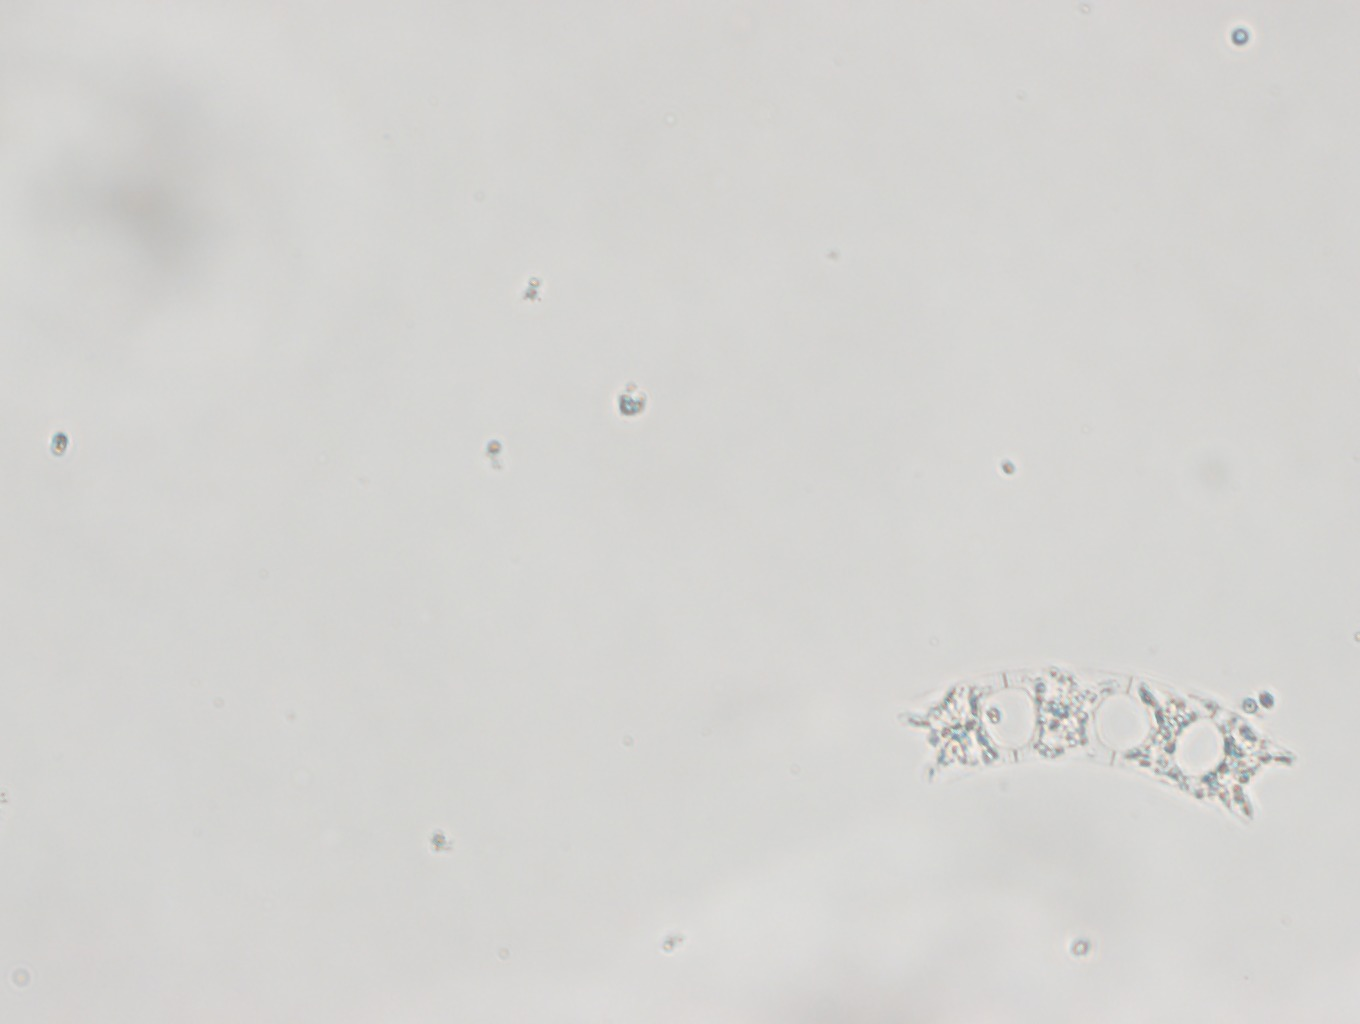eucampia: (891, 662, 1295, 833)
